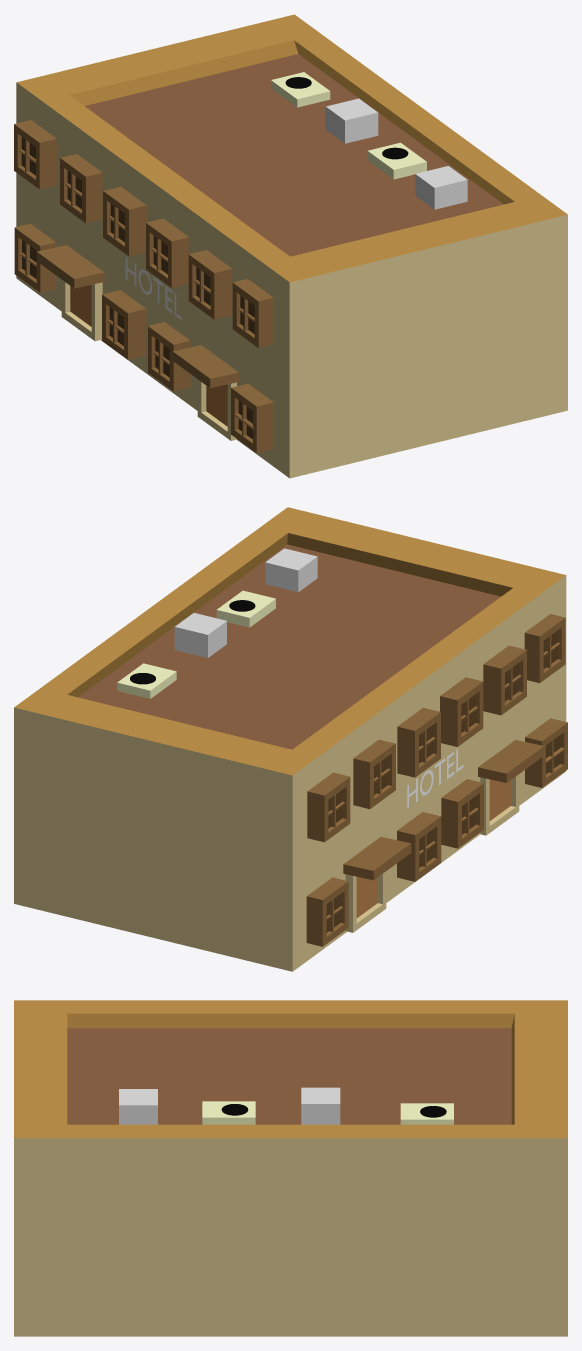
The model's file is hotel.fbx.
3 views of the same model, one above another, from view 1: azimuth 30°, elevation 25°; view 2: azimuth 150°, elevation 25°; view 3: azimuth 270°, elevation 25° (orthographic).
Parts seen in each view (by area): view 1: Cube, Cubo.025, Cubo.016, Cubo.010, Cubo.013, Cubo.004, Cubo.007, Cubo.031, Cubo.019, Cubo.028, Cubo.034, Cubo.001 (+8 smaller); view 2: Cube, Cubo.016, Cubo.010, Cubo.004, Cubo.013, Cubo.028, Cubo.007, Cubo.022, Cubo.025, Cubo.019, Cubo.031, Cubo.001 (+7 smaller); view 3: Cube, Cubo.001, Cubo, Cubo.002, Cubo.003.
Part boxes in pixels (<box>): Cube: <box>16,14,567,478</box>; Cubo.025: <box>102,290,146,359</box>; Cubo.016: <box>188,250,232,319</box>; Cubo.010: <box>103,186,146,256</box>; Cubo.013: <box>146,218,189,287</box>; Cubo.004: <box>14,120,56,189</box>; Cubo.007: <box>60,154,102,223</box>; Cubo.031: <box>231,383,273,453</box>; Cubo.019: <box>232,279,273,347</box>; Cubo.028: <box>148,322,190,391</box>; Cubo.034: <box>61,280,102,341</box>; Cubo.001: <box>325,98,378,143</box>; Cube: <box>14,507,566,971</box>; Cubo.016: <box>483,645,526,715</box>; Cubo.010: <box>397,707,440,777</box>; Cubo.004: <box>307,772,350,842</box>; Cubo.013: <box>440,677,483,746</box>; Cubo.028: <box>441,779,483,848</box>; Cubo.007: <box>353,739,395,809</box>; Cubo.022: <box>306,877,348,946</box>; Cubo.025: <box>397,812,441,881</box>; Cubo.019: <box>524,614,565,683</box>; Cubo.031: <box>525,718,567,787</box>; Cubo.001: <box>174,613,226,657</box>; Cube: <box>14,1000,567,1336</box>; Cubo.001: <box>301,1087,340,1124</box>; Cubo: <box>119,1089,157,1124</box>; Cubo.002: <box>202,1101,255,1124</box>; Cubo.003: <box>400,1103,453,1124</box>.
Size of the model in its own units: 1858 by 1185 by 2850.
